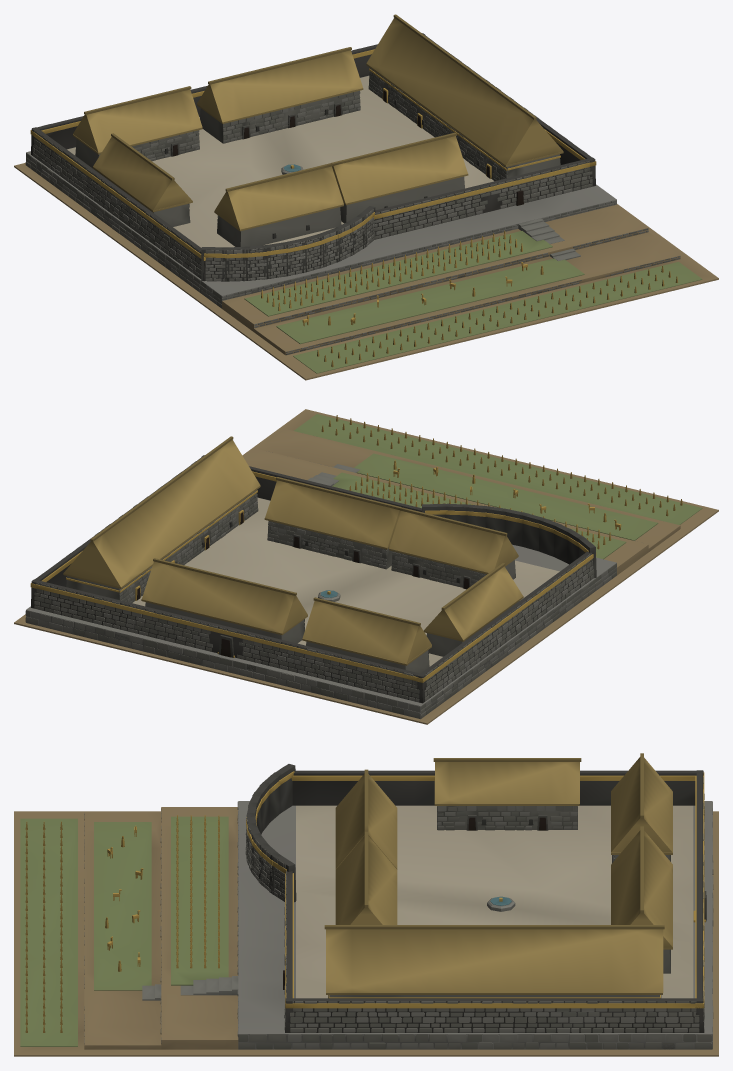
Rendered from coricancha.glb.
3 views of the same model, one above another, from view 1: azimuth 30°, elevation 25°; view 2: azimuth 150°, elevation 25°; view 3: azimuth 270°, elevation 25° (orthographic). The views are drawn at different scales.
Visible parts, largest first — view 1: p0_platform, p2_roofs, p1_walls; view 2: p2_roofs, p1_walls, p0_platform; view 3: p0_platform, p1_walls, p2_roofs.
Part boxes in pixels (x1,y1,x2,y2): p0_platform: [14, 75, 718, 380]; p2_roofs: [30, 14, 677, 366]; p1_walls: [31, 33, 595, 281]; p2_roofs: [30, 415, 682, 682]; p1_walls: [31, 455, 596, 703]; p0_platform: [14, 409, 718, 724]; p0_platform: [14, 801, 718, 1056]; p1_walls: [245, 764, 706, 1032]; p2_roofs: [25, 753, 705, 1032].
Bounding box in the file's own units: 90 × 16.95 × 110.
